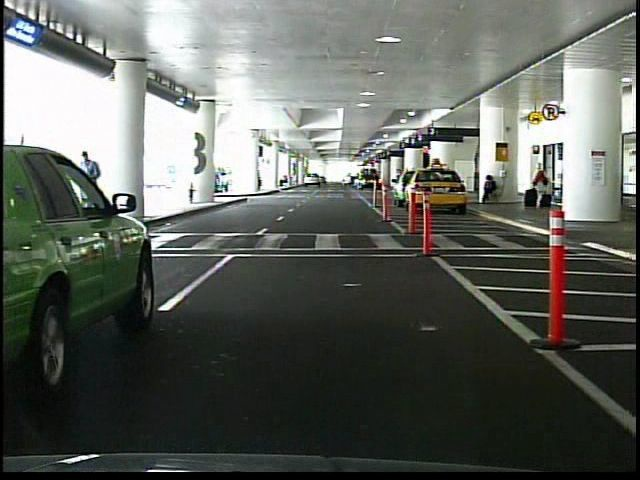person: (81, 149, 107, 222), (534, 161, 552, 210), (481, 172, 501, 204)
